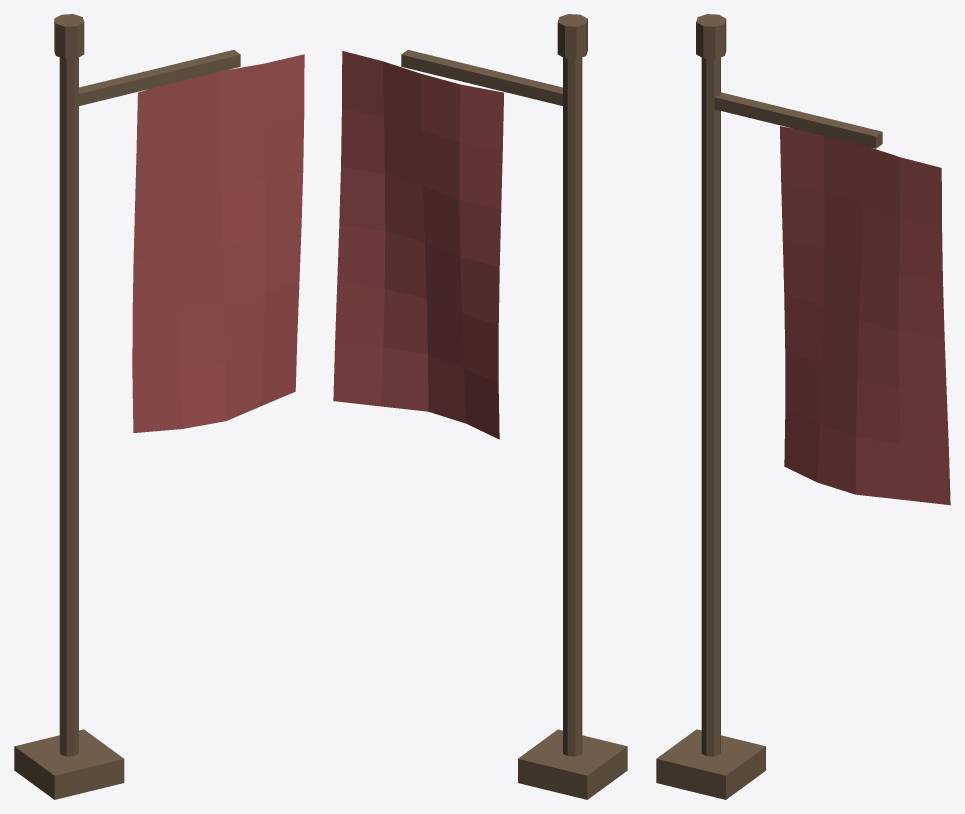
The model's file is banner_red.glb.
3 renders of one model, left to right at view 1: azimuth 30°, elevation 25°; view 2: azimuth 150°, elevation 25°; view 3: azimuth 330°, elevation 25°, orthographic.
Visible parts, largest first — view 1: banner_red; view 2: banner_red; view 3: banner_red.
Part boxes in pixels (x1,y1,x2,y2): banner_red: (14, 14, 304, 799); banner_red: (333, 14, 627, 799); banner_red: (656, 14, 950, 799).
Size of the model in its own units: 1.38 by 3.74 by 0.36.
